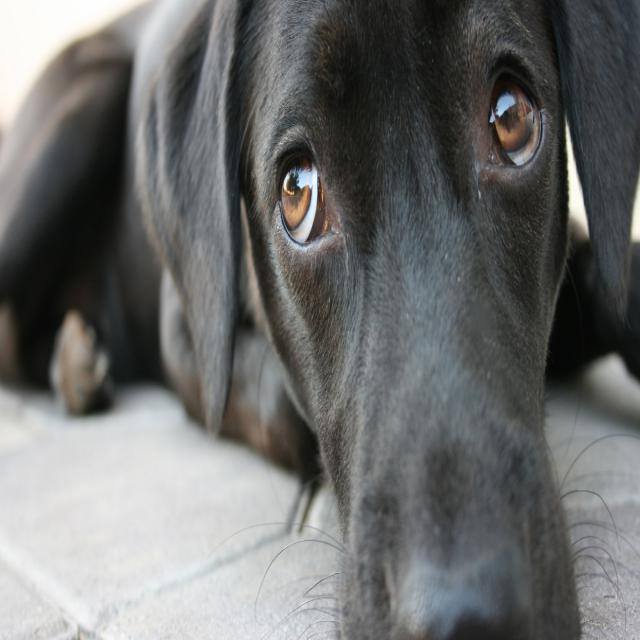eye: (275, 131, 343, 257), (482, 60, 546, 178)
